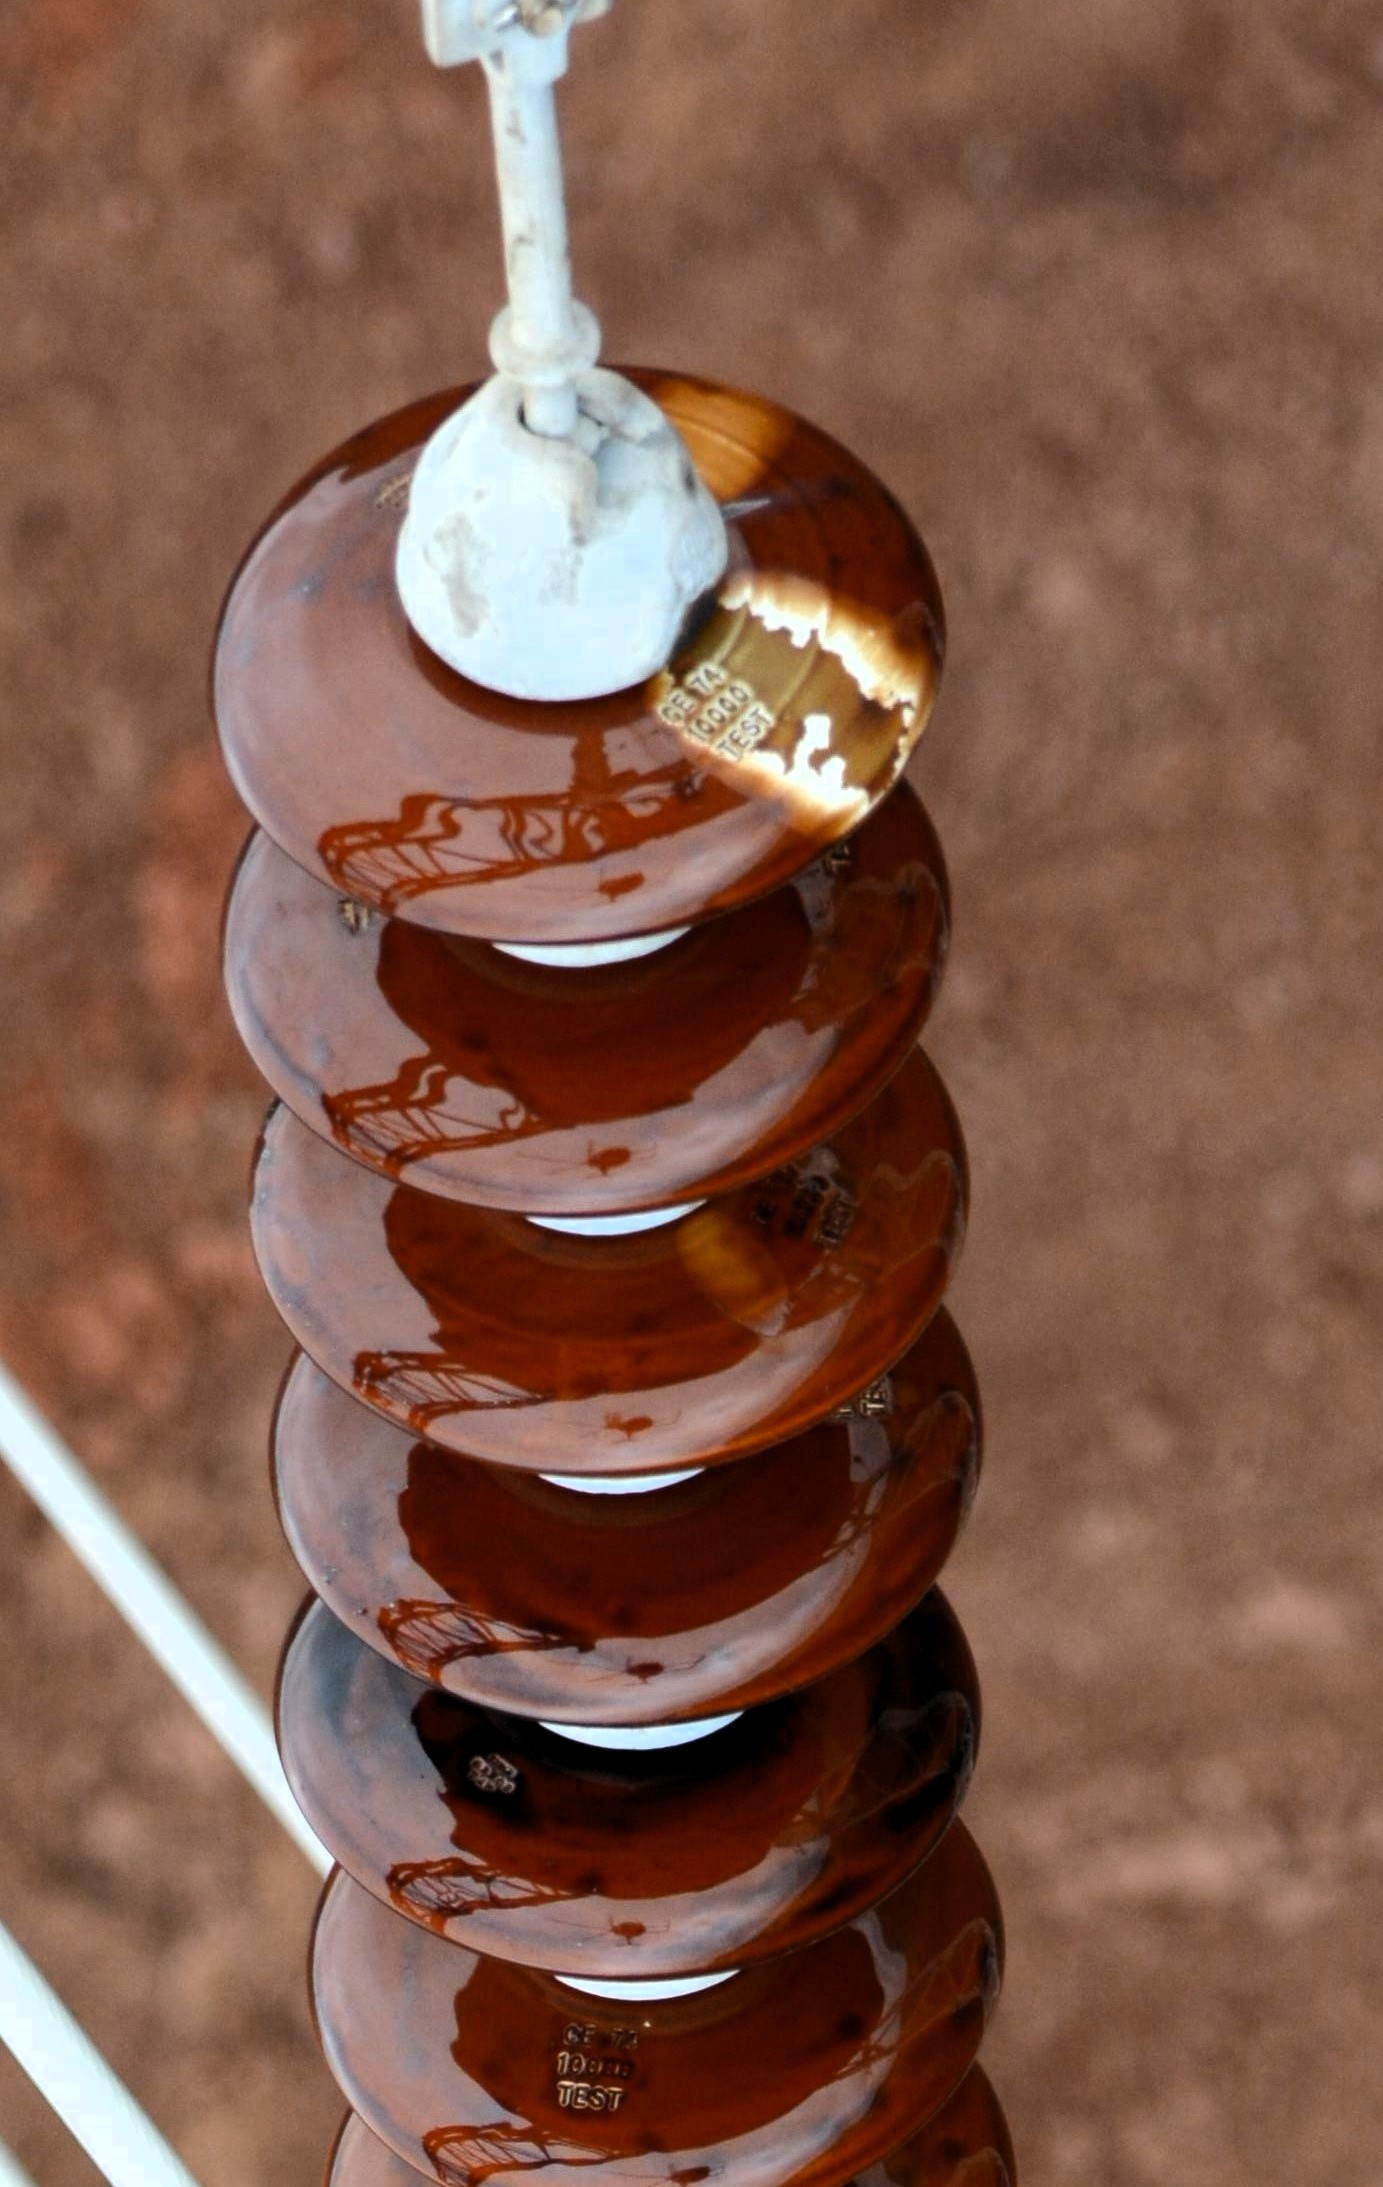Insulator flashover: (190, 358, 962, 953)
